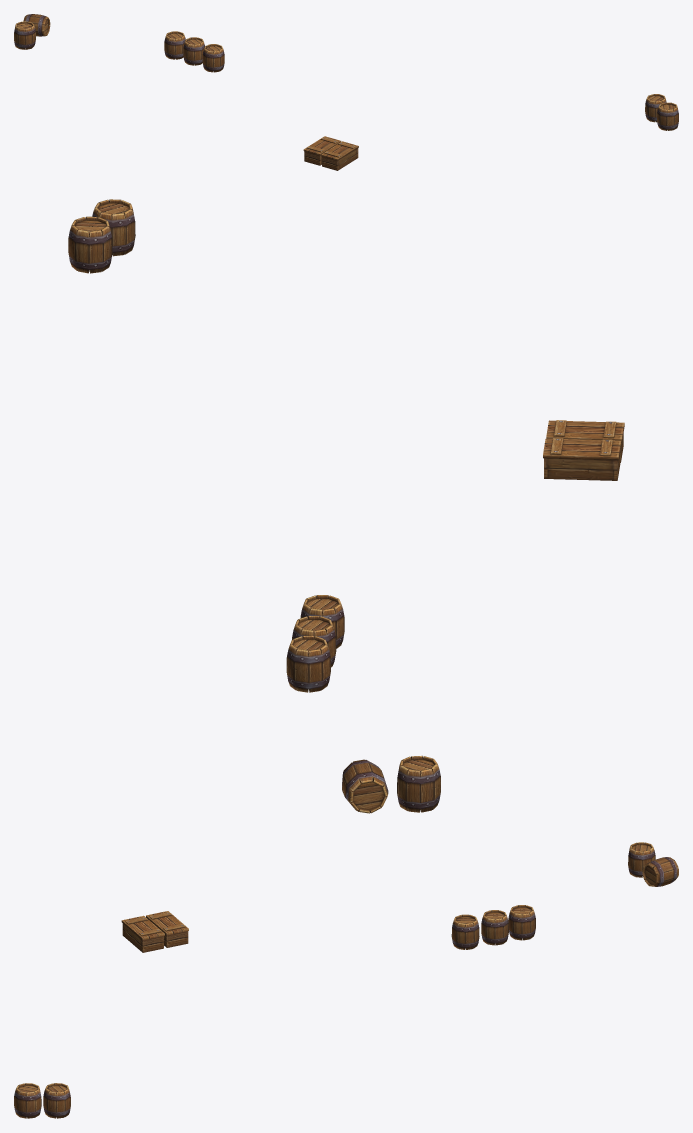
Rendered from Area_11_53.fbx.
The picture shows the model from 3 angles, top to bottom: view 1: azimuth 30°, elevation 25°; view 2: azimuth 150°, elevation 25°; view 3: azimuth 270°, elevation 25°; orthographic projection. The views are drawn at different scales.
Parts seen in each view (by area): view 1: Area_11_53; view 2: Area_11_53; view 3: Area_11_53.
Boxes of the visible parts, x1,y1,x2,y2 form: Area_11_53: [14, 14, 678, 170]; Area_11_53: [68, 199, 624, 813]; Area_11_53: [14, 842, 678, 1118].
Bounding box in the file's own units: 2656 × 136 × 2934.
